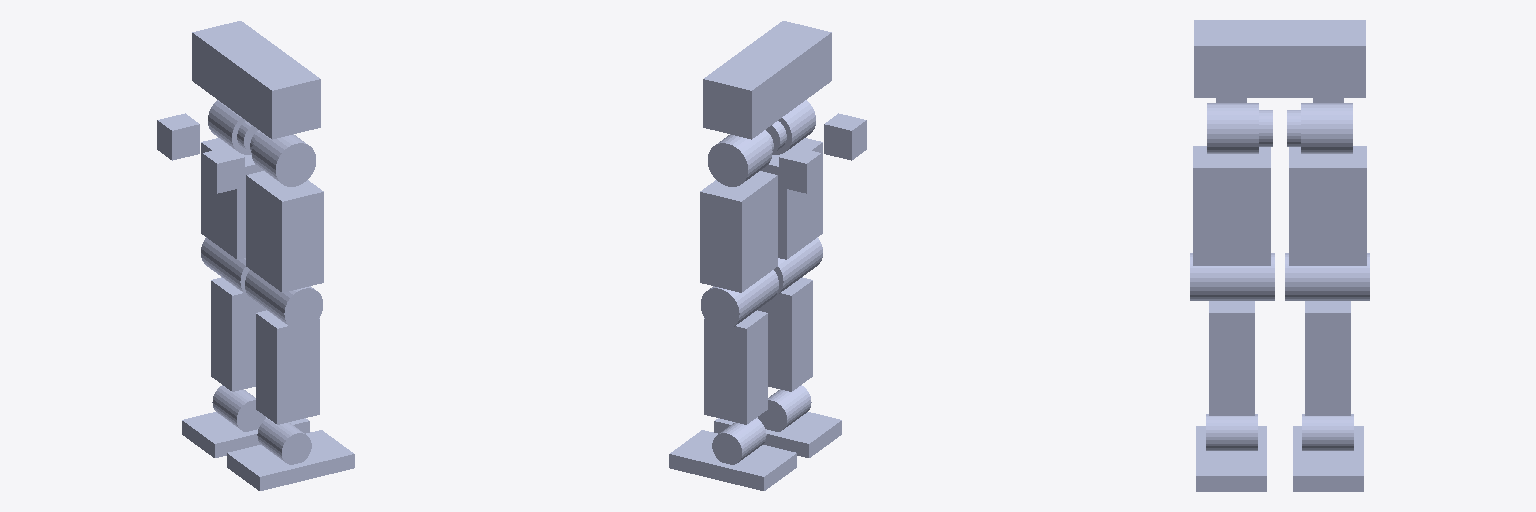
URDF robot description (SD_BRS):
<?xml version="1.0" encoding="utf-8"?>
<!-- Simplified collision/visual model of SD_BRS1_Assembly2.
     Inertials, joint origins, axes, types and limits are copied verbatim from that file, so this
     model is dynamically identical and a policy trained here transfers to the original asset.
     Mesh geometry is replaced by primitives chosen so that no two non-adjacent links of the same
     leg overlap at any reachable joint configuration, which the original mesh model violated
     (Link4 penetrated Link6 permanently, producing spurious contact forces). -->
<robot name="SD_BRS">
  <link name="Part_Torso">
    <inertial>
      <origin xyz="-0.02569 9E-05 0.01032" rpy="0 0 0" />
      <mass value="8.2464" />
      <inertia ixx="0.153336048" ixy="0.00011776" ixz="0.000278663" iyy="0.032638157" iyz="3.7103E-07" izz="0.153374618" />
    </inertial>
    <visual>
      <origin xyz="-0.0186 0 0.01467" rpy="0 0 0" />
      <geometry>
        <box size="0.1622 0.4604 0.155" />
      </geometry>
      <material name="steel_blue">
        <color rgba="0.79216 0.81961 0.93333 1" />
      </material>
    </visual>
    <collision>
      <origin xyz="-0.0186 0 0.01467" rpy="0 0 0" />
      <geometry>
        <box size="0.1622 0.4604 0.155" />
      </geometry>
    </collision>
  </link>
  <joint name="HipYawR" type="fixed">
    <origin xyz="0 -0.129996282070585 -0.181076979804151" rpy="0 0 0" />
    <parent link="Part_Torso" />
    <child link="Link1R" />
  </joint>
  <joint name="HipYawL" type="fixed">
    <origin xyz="0 0.13 -0.18108" rpy="0 0 0" />
    <parent link="Part_Torso" />
    <child link="Link1L" />
  </joint>
  <link name="Link1R">
    <inertial>
      <origin xyz="-0.10278 -9E-05 0.0219" rpy="0 0 0" />
      <mass value="2.726" />
      <inertia ixx="0.0071575" ixy="3.5304E-05" ixz="0.006078" iyy="0.021413" iyz="5.1364E-06" izz="0.017154" />
    </inertial>
    <visual>
      <origin xyz="-0.2024 0 0.0049" rpy="0 0 0" />
      <geometry>
        <box size="0.0928 0.085 0.0948" />
      </geometry>
      <material name="steel_blue">
        <color rgba="0.79216 0.81961 0.93333 1" />
      </material>
    </visual>
    <collision>
      <origin xyz="-0.2024 0 0.0049" rpy="0 0 0" />
      <geometry>
        <box size="0.0928 0.085 0.0948" />
      </geometry>
    </collision>
  </link>
  <joint name="HipRollR" type="revolute">
    <origin xyz="0 0 0" rpy="0 0 0" />
    <parent link="Link1R" />
    <child link="Link2R" />
    <axis xyz="1 0 0" />
    <limit lower="-0.349" upper="0.349" effort="0" velocity="0" />
  </joint>
  <link name="Link2R">
    <inertial>
      <origin xyz="-0.00055 0.01004 9E-05" rpy="0 0 0" />
      <mass value="3.8609" />
      <inertia ixx="0.0097704" ixy="-1.4503E-05" ixz="-6.9912E-06" iyy="0.0071475" iyz="3.4683E-05" izz="0.011053" />
    </inertial>
    <visual>
      <origin xyz="0 0.0906 0" rpy="1.5707963268 0 0" />
      <geometry>
        <cylinder radius="0.0505" length="0.0428" />
      </geometry>
      <material name="steel_blue">
        <color rgba="0.79216 0.81961 0.93333 1" />
      </material>
    </visual>
    <collision>
      <origin xyz="0 0.0906 0" rpy="1.5707963268 0 0" />
      <geometry>
        <cylinder radius="0.0505" length="0.0428" />
      </geometry>
    </collision>
  </link>
  <joint name="HipPitchR" type="revolute">
    <origin xyz="0 0 0" rpy="0 0 0" />
    <parent link="Link2R" />
    <child link="Link3R" />
    <axis xyz="0 -1 0" />
    <limit lower="-0.75" upper="1.25" effort="0" velocity="0" />
  </joint>
  <link name="Link3R">
    <inertial>
      <origin xyz="-0.01444 -0.00023 -0.24157" rpy="0 0 0" />
      <mass value="9.645" />
      <inertia ixx="0.187910197" ixy="-0.000570862" ixz="-0.001894601" iyy="0.177697306" iyz="0.000778493" izz="0.052826815" />
    </inertial>
    <visual>
      <origin xyz="0 0.0041 0" rpy="1.5707963268 0 0" />
      <geometry>
        <cylinder radius="0.068" length="0.1396" />
      </geometry>
      <material name="steel_blue">
        <color rgba="0.79216 0.81961 0.93333 1" />
      </material>
    </visual>
    <collision>
      <origin xyz="0 0.0041 0" rpy="1.5707963268 0 0" />
      <geometry>
        <cylinder radius="0.068" length="0.1396" />
      </geometry>
    </collision>
    <visual>
      <origin xyz="0.0011 0 -0.23" rpy="0 0 0" />
      <geometry>
        <box size="0.1382 0.21 0.29" />
      </geometry>
      <material name="steel_blue">
        <color rgba="0.79216 0.81961 0.93333 1" />
      </material>
    </visual>
    <collision>
      <origin xyz="0.0011 0 -0.23" rpy="0 0 0" />
      <geometry>
        <box size="0.1382 0.21 0.29" />
      </geometry>
    </collision>
    <visual>
      <origin xyz="0 0.0032 -0.44" rpy="1.5707963268 0 0" />
      <geometry>
        <cylinder radius="0.065" length="0.2285" />
      </geometry>
      <material name="steel_blue">
        <color rgba="0.79216 0.81961 0.93333 1" />
      </material>
    </visual>
    <collision>
      <origin xyz="0 0.0032 -0.44" rpy="1.5707963268 0 0" />
      <geometry>
        <cylinder radius="0.065" length="0.2285" />
      </geometry>
    </collision>
  </link>
  <joint name="KneePitchR" type="revolute">
    <origin xyz="0 0.00045 -0.44" rpy="0 0 0" />
    <parent link="Link3R" />
    <child link="Link4R" />
    <axis xyz="0 1 0" />
    <limit lower="0" upper="1.483" effort="0" velocity="0" />
  </joint>
  <link name="Link4R">
    <inertial>
      <origin xyz="0.00346 -1E-05 -0.19188" rpy="0 0 0" />
      <mass value="5.805" />
      <inertia ixx="0.098359" ixy="2.8794E-05" ixz="0.010111" iyy="0.10544" iyz="1.7428E-05" izz="0.018624" />
    </inertial>
    <visual>
      <origin xyz="0 0 0" rpy="1.5707963268 0 0" />
      <geometry>
        <cylinder radius="0.05" length="0.1206" />
      </geometry>
      <material name="steel_blue">
        <color rgba="0.79216 0.81961 0.93333 1" />
      </material>
    </visual>
    <collision>
      <origin xyz="0 0 0" rpy="1.5707963268 0 0" />
      <geometry>
        <cylinder radius="0.05" length="0.1206" />
      </geometry>
    </collision>
    <visual>
      <origin xyz="0.01125 0 -0.221" rpy="0 0 0" />
      <geometry>
        <box size="0.1425 0.125 0.306" />
      </geometry>
      <material name="steel_blue">
        <color rgba="0.79216 0.81961 0.93333 1" />
      </material>
    </visual>
    <collision>
      <origin xyz="0.01125 0 -0.221" rpy="0 0 0" />
      <geometry>
        <box size="0.1425 0.125 0.306" />
      </geometry>
    </collision>
  </link>
  <joint name="AnkleRollR" type="revolute">
    <origin xyz="0 0 -0.43" rpy="0 0 0" />
    <parent link="Link4R" />
    <child link="Link5R" />
    <axis xyz="-1 0 0" />
    <limit lower="-0.349" upper="0.349" effort="0" velocity="0" />
  </joint>
  <link name="Link5R">
    <inertial>
      <origin xyz="-0.01599 0 0" rpy="0 0 0" />
      <mass value="0.0722" />
      <inertia ixx="3.2188E-06" ixy="0" ixz="0" iyy="7.7148E-05" iyz="0" izz="7.7003E-05" />
    </inertial>
  </link>
  <joint name="AnklePitchR" type="revolute">
    <origin xyz="0 0 0" rpy="0 0 0" />
    <parent link="Link5R" />
    <child link="Link6R" />
    <axis xyz="0 -1 0" />
    <limit lower="-0.454" upper="0.454" effort="0" velocity="0" />
  </joint>
  <link name="Link6R">
    <inertial>
      <origin xyz="0.01069 -0.00375 -0.06865" rpy="0 0 0" />
      <mass value="3.691" />
      <inertia ixx="0.015197" ixy="7.8646E-05" ixz="-0.0023923" iyy="0.0212" iyz="-0.00093291" izz="0.025119" />
    </inertial>
    <visual>
      <origin xyz="0 0 -0.032" rpy="1.5707963268 0 0" />
      <geometry>
        <cylinder radius="0.05" length="0.14" />
      </geometry>
      <material name="steel_blue">
        <color rgba="0.79216 0.81961 0.93333 1" />
      </material>
    </visual>
    <collision>
      <origin xyz="0 0 -0.032" rpy="1.5707963268 0 0" />
      <geometry>
        <cylinder radius="0.05" length="0.14" />
      </geometry>
    </collision>
    <visual>
      <origin xyz="0.0202 0 -0.101" rpy="0 0 0" />
      <geometry>
        <box size="0.3156 0.19 0.046" />
      </geometry>
      <material name="steel_blue">
        <color rgba="0.79216 0.81961 0.93333 1" />
      </material>
    </visual>
    <collision>
      <origin xyz="0.0202 0 -0.101" rpy="0 0 0" />
      <geometry>
        <box size="0.3156 0.19 0.046" />
      </geometry>
    </collision>
  </link>
  <link name="Link1L">
    <inertial>
      <origin xyz="-0.10278 -9E-05 0.0219" rpy="0 0 0" />
      <mass value="2.726" />
      <inertia ixx="0.0071575" ixy="3.5304E-05" ixz="0.006078" iyy="0.021413" iyz="5.1364E-06" izz="0.017154" />
    </inertial>
    <visual>
      <origin xyz="-0.2024 0 0.0049" rpy="0 0 0" />
      <geometry>
        <box size="0.0928 0.085 0.0948" />
      </geometry>
      <material name="steel_blue">
        <color rgba="0.79216 0.81961 0.93333 1" />
      </material>
    </visual>
    <collision>
      <origin xyz="-0.2024 0 0.0049" rpy="0 0 0" />
      <geometry>
        <box size="0.0928 0.085 0.0948" />
      </geometry>
    </collision>
  </link>
  <joint name="HipRollL" type="revolute">
    <origin xyz="0 0 0" rpy="0 0 0" />
    <parent link="Link1L" />
    <child link="Link2L" />
    <axis xyz="1 0 0" />
    <limit lower="-0.349" upper="0.349" effort="0" velocity="0" />
  </joint>
  <link name="Link2L">
    <inertial>
      <origin xyz="-0.00055 -0.01004 -9E-05" rpy="0 0 0" />
      <mass value="3.86" />
      <inertia ixx="0.0097704" ixy="1.4503E-05" ixz="6.9912E-06" iyy="0.0071475" iyz="3.4683E-05" izz="0.011053" />
    </inertial>
    <visual>
      <origin xyz="0 -0.0906 0" rpy="1.5707963268 0 0" />
      <geometry>
        <cylinder radius="0.0505" length="0.0428" />
      </geometry>
      <material name="steel_blue">
        <color rgba="0.79216 0.81961 0.93333 1" />
      </material>
    </visual>
    <collision>
      <origin xyz="0 -0.0906 0" rpy="1.5707963268 0 0" />
      <geometry>
        <cylinder radius="0.0505" length="0.0428" />
      </geometry>
    </collision>
  </link>
  <joint name="HipPitchL" type="revolute">
    <origin xyz="0 0 0" rpy="0 0 0" />
    <parent link="Link2L" />
    <child link="Link3L" />
    <axis xyz="0 1 0" />
    <limit lower="-1.25" upper="0.75" effort="0" velocity="0" />
  </joint>
  <link name="Link3L">
    <inertial>
      <origin xyz="-0.01487 0.00133 -0.24243" rpy="0 0 0" />
      <mass value="9.6512" />
      <inertia ixx="0.18977" ixy="0.00044871" ixz="-0.0023007" iyy="0.17967" iyz="-0.00042822" izz="0.053261" />
    </inertial>
    <visual>
      <origin xyz="0 -0.0041 0" rpy="1.5707963268 0 0" />
      <geometry>
        <cylinder radius="0.068" length="0.1396" />
      </geometry>
      <material name="steel_blue">
        <color rgba="0.79216 0.81961 0.93333 1" />
      </material>
    </visual>
    <collision>
      <origin xyz="0 -0.0041 0" rpy="1.5707963268 0 0" />
      <geometry>
        <cylinder radius="0.068" length="0.1396" />
      </geometry>
    </collision>
    <visual>
      <origin xyz="0.0011 0 -0.23" rpy="0 0 0" />
      <geometry>
        <box size="0.1382 0.21 0.29" />
      </geometry>
      <material name="steel_blue">
        <color rgba="0.79216 0.81961 0.93333 1" />
      </material>
    </visual>
    <collision>
      <origin xyz="0.0011 0 -0.23" rpy="0 0 0" />
      <geometry>
        <box size="0.1382 0.21 0.29" />
      </geometry>
    </collision>
    <visual>
      <origin xyz="0 -0.0032 -0.44" rpy="1.5707963268 0 0" />
      <geometry>
        <cylinder radius="0.065" length="0.2285" />
      </geometry>
      <material name="steel_blue">
        <color rgba="0.79216 0.81961 0.93333 1" />
      </material>
    </visual>
    <collision>
      <origin xyz="0 -0.0032 -0.44" rpy="1.5707963268 0 0" />
      <geometry>
        <cylinder radius="0.065" length="0.2285" />
      </geometry>
    </collision>
  </link>
  <joint name="KneePitchL" type="revolute">
    <origin xyz="0 -0.00045 -0.44" rpy="0 0 0" />
    <parent link="Link3L" />
    <child link="Link4L" />
    <axis xyz="0 1 0" />
    <limit lower="0" upper="1.483" effort="0" velocity="0" />
  </joint>
  <link name="Link4L">
    <inertial>
      <origin xyz="0.00346 -1E-05 -0.19188" rpy="0 0 0" />
      <mass value="5.8054" />
      <inertia ixx="0.098359" ixy="2.8794E-05" ixz="0.010111" iyy="0.10544" iyz="1.7428E-05" izz="0.018624" />
    </inertial>
    <visual>
      <origin xyz="0 0 0" rpy="1.5707963268 0 0" />
      <geometry>
        <cylinder radius="0.05" length="0.1206" />
      </geometry>
      <material name="steel_blue">
        <color rgba="0.79216 0.81961 0.93333 1" />
      </material>
    </visual>
    <collision>
      <origin xyz="0 0 0" rpy="1.5707963268 0 0" />
      <geometry>
        <cylinder radius="0.05" length="0.1206" />
      </geometry>
    </collision>
    <visual>
      <origin xyz="0.01125 0 -0.221" rpy="0 0 0" />
      <geometry>
        <box size="0.1425 0.125 0.306" />
      </geometry>
      <material name="steel_blue">
        <color rgba="0.79216 0.81961 0.93333 1" />
      </material>
    </visual>
    <collision>
      <origin xyz="0.01125 0 -0.221" rpy="0 0 0" />
      <geometry>
        <box size="0.1425 0.125 0.306" />
      </geometry>
    </collision>
  </link>
  <joint name="AnkleRollL" type="revolute">
    <origin xyz="0 0 -0.43" rpy="0 0 0" />
    <parent link="Link4L" />
    <child link="Link5L" />
    <axis xyz="-1 0 0" />
    <limit lower="-0.359" upper="0.359" effort="0" velocity="0" />
  </joint>
  <link name="Link5L">
    <inertial>
      <origin xyz="-0.01599 0 0" rpy="0 0 0" />
      <mass value="0.0722" />
      <inertia ixx="3.2188E-06" ixy="0" ixz="0" iyy="7.7148E-05" iyz="0" izz="7.7003E-05" />
    </inertial>
  </link>
  <joint name="AnklePitchL" type="revolute">
    <origin xyz="0 0 0" rpy="0 0 0" />
    <parent link="Link5L" />
    <child link="Link6L" />
    <axis xyz="0 -1 0" />
    <limit lower="-0.454" upper="0.454" effort="0" velocity="0" />
  </joint>
  <link name="Link6L">
    <inertial>
      <origin xyz="0.01055 0.00393 -0.06866" rpy="0 0 0" />
      <mass value="3.691" />
      <inertia ixx="0.015182935" ixy="-0.000222543" ixz="-0.002416782" iyy="0.021211984" iyz="0.000980965" izz="0.025128119" />
    </inertial>
    <visual>
      <origin xyz="0 0 -0.032" rpy="1.5707963268 0 0" />
      <geometry>
        <cylinder radius="0.05" length="0.14" />
      </geometry>
      <material name="steel_blue">
        <color rgba="0.79216 0.81961 0.93333 1" />
      </material>
    </visual>
    <collision>
      <origin xyz="0 0 -0.032" rpy="1.5707963268 0 0" />
      <geometry>
        <cylinder radius="0.05" length="0.14" />
      </geometry>
    </collision>
    <visual>
      <origin xyz="0.0202 0 -0.101" rpy="0 0 0" />
      <geometry>
        <box size="0.3156 0.19 0.046" />
      </geometry>
      <material name="steel_blue">
        <color rgba="0.79216 0.81961 0.93333 1" />
      </material>
    </visual>
    <collision>
      <origin xyz="0.0202 0 -0.101" rpy="0 0 0" />
      <geometry>
        <box size="0.3156 0.19 0.046" />
      </geometry>
    </collision>
  </link>
</robot>

--- Facts derived from the render (not from the file) ---
Views: 3 orthographic renders of the robot side by side, from view 1: azimuth 30°, elevation 25°; view 2: azimuth 150°, elevation 25°; view 3: azimuth 270°, elevation 25°.
Model SD_BRS with 13 links and 12 joints (10 revolute, 2 fixed), rooted at Part_Torso, posed every joint at zero.
Links seen in each view (by area): view 1: Link3R, Part_Torso, Link4R, Link3L, Link6R, Link4L, Link6L, Link1L, Link1R; view 2: Link3L, Part_Torso, Link4L, Link3R, Link6L, Link4R, Link6R, Link1R, Link1L; view 3: Link3R, Link3L, Part_Torso, Link4R, Link4L, Link6R, Link6L.
Boxes of the visible links, x1,y1,x2,y2 form: Link3R: (245,132,323,329); Part_Torso: (192,21,320,139); Link4R: (256,310,319,424); Link3L: (201,100,263,295); Link6R: (227,418,354,490); Link4L: (211,277,265,391); Link6L: (182,385,309,457); Link1L: (157,113,199,160); Link1R: (203,146,244,193); Link3L: (700,132,778,329); Part_Torso: (703,21,831,139); Link4L: (704,310,767,424); Link3R: (760,100,822,295); Link6L: (669,418,796,490); Link4R: (758,277,812,391); Link6R: (714,385,841,457); Link1R: (824,113,866,160); Link1L: (779,146,820,193); Link3R: (1190,103,1274,300); Link3L: (1285,103,1369,300); Part_Torso: (1194,20,1365,97); Link4R: (1209,301,1254,415); Link4L: (1305,301,1350,415); Link6R: (1196,414,1266,491); Link6L: (1293,414,1363,491).
Bounding box of the posed robot: 0.4268 × 0.4821 × 1.27 m (x, y, z).
Geometry: primitives only (box / cylinder / sphere), no mesh files.
